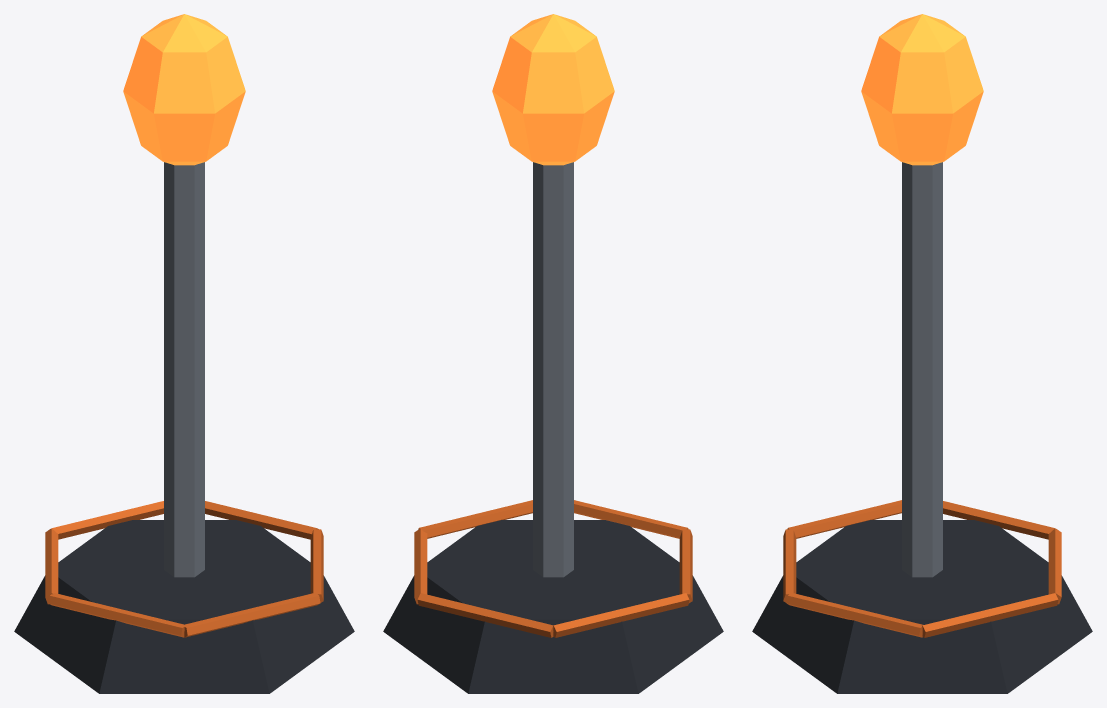
The model's file is respawn_beacon_orange.glb.
3 renders of one model, left to right at view 1: azimuth 30°, elevation 25°; view 2: azimuth 150°, elevation 25°; view 3: azimuth 270°, elevation 25°, orthographic.
Parts seen in each view (by area): view 1: respawn_beacon_orange; view 2: respawn_beacon_orange; view 3: respawn_beacon_orange.
Boxes of the visible parts, bbox=[...] form: respawn_beacon_orange: bbox=[14, 14, 354, 693]; respawn_beacon_orange: bbox=[383, 14, 723, 693]; respawn_beacon_orange: bbox=[752, 14, 1092, 693].
Size of the model in its own units: 0.9329 by 2 by 1.
